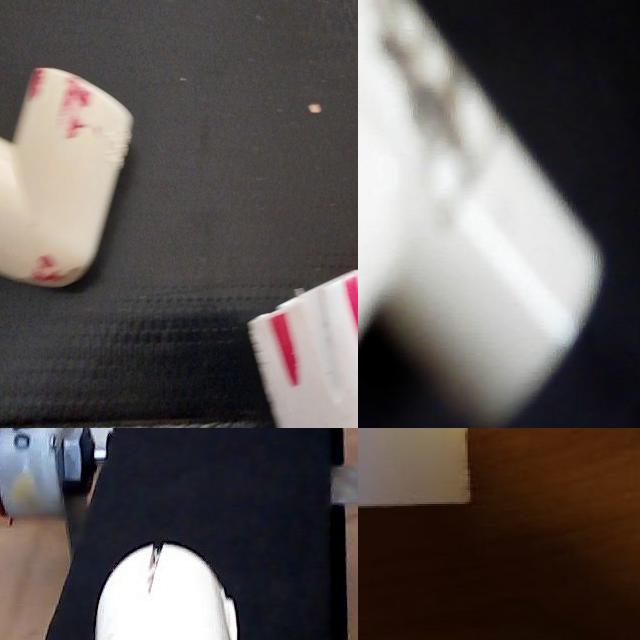Defective: (384, 34, 466, 172), (312, 56, 358, 130), (266, 328, 327, 376), (202, 575, 245, 640), (246, 240, 307, 276), (142, 542, 169, 605)
L Joint: (229, 52, 358, 404)
T Joint: (358, 0, 604, 428)
